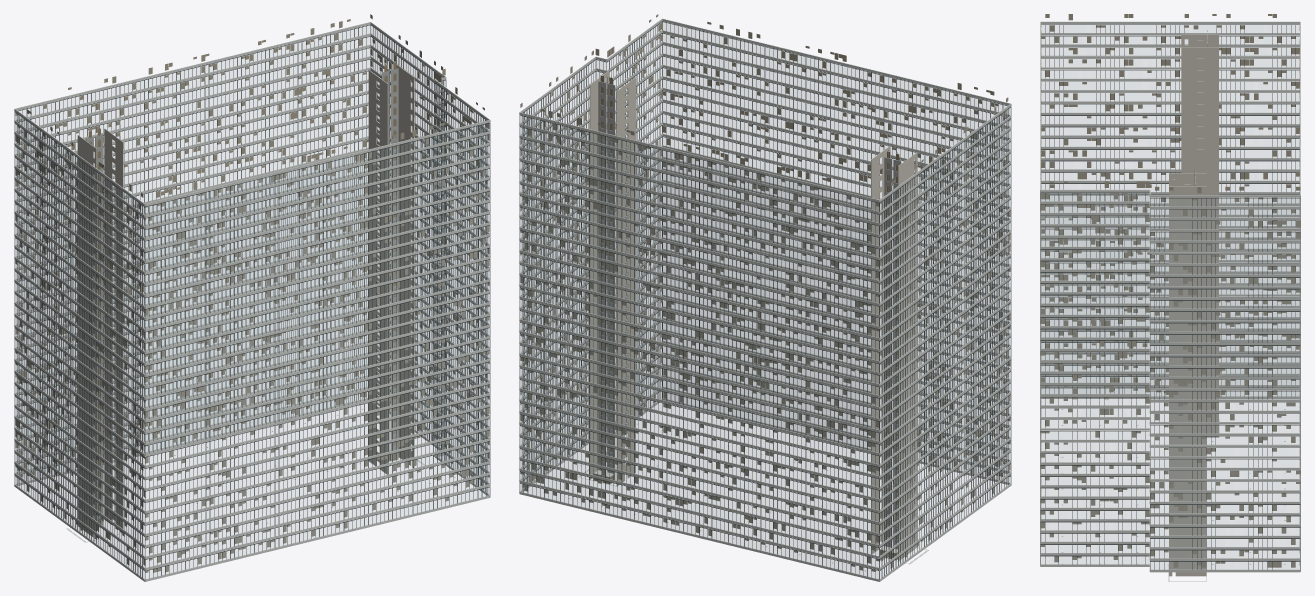
The model's file is context-tower.glb.
3 renders of one model, left to right at view 1: azimuth 30°, elevation 25°; view 2: azimuth 150°, elevation 25°; view 3: azimuth 270°, elevation 25°, orthographic.
Visible parts, largest first — view 1: HEPHAESTUS_exterior_context / cell 0,0,0; view 2: HEPHAESTUS_exterior_context / cell 0,0,0; view 3: HEPHAESTUS_exterior_context / cell 0,0,0.
Part boxes in pixels (left/top/right/bottom): HEPHAESTUS_exterior_context / cell 0,0,0: left=14, top=14, right=490, bottom=581; HEPHAESTUS_exterior_context / cell 0,0,0: left=519, top=14, right=1011, bottom=581; HEPHAESTUS_exterior_context / cell 0,0,0: left=1040, top=14, right=1300, bottom=581.
Bounding box in the file's own units: 131 × 141 × 83.28.
